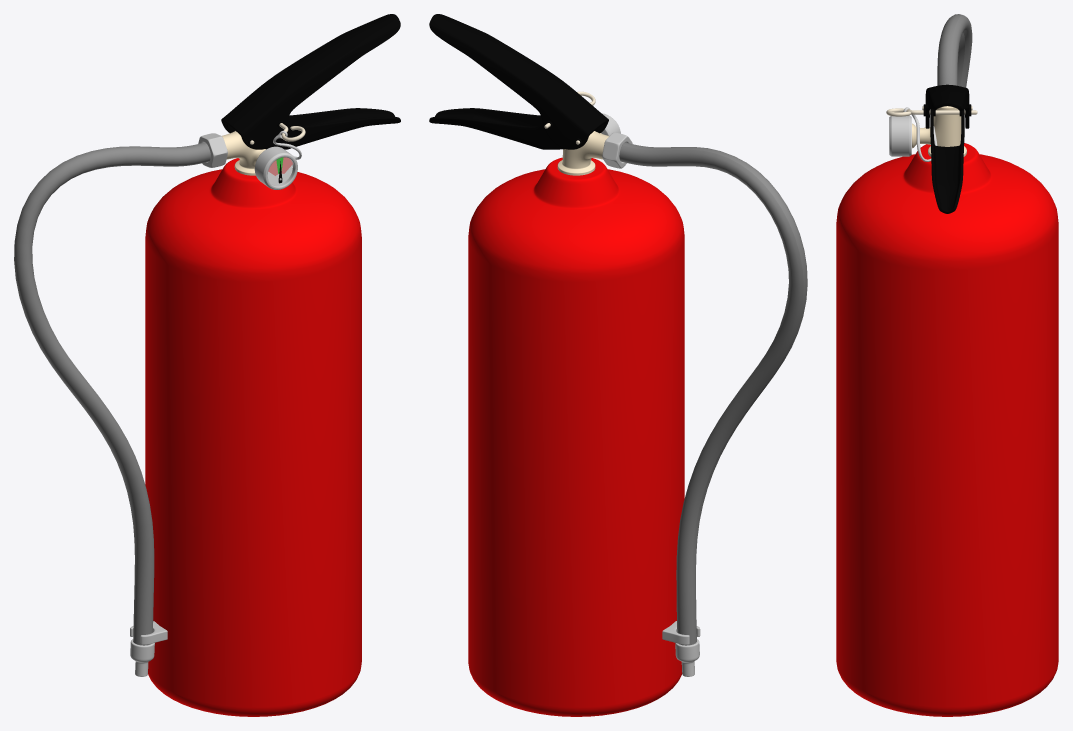
The model's file is fire.glb.
3 views of the same model, side by side, from view 1: azimuth 30°, elevation 25°; view 2: azimuth 150°, elevation 25°; view 3: azimuth 270°, elevation 25° (orthographic). The views are drawn at different scales.
Parts seen in each view (by area): view 1: Main_18, Hose_7, Handle_13, Connector_11, Meter_Housing_4, Screw_5, Hose_End_6; view 2: Main_18, Hose_7, Handle_13, Connector_11, Screw_5, Hose_End_6; view 3: Main_18, Handle_13, Hose_7, Connector_11, Meter_Housing_4, Steel_Pins_9.
Part boxes in pixels (x1,y1,x2,y2): Main_18: (145,158,361,716); Hose_7: (14,142,210,645); Handle_13: (221,14,400,149); Connector_11: (222,131,265,175); Meter_Housing_4: (254,146,297,189); Screw_5: (198,133,227,167); Hose_End_6: (130,639,154,676); Main_18: (468,157,684,716); Hose_7: (619,142,807,645); Handle_13: (429,14,608,149); Connector_11: (557,131,608,175); Screw_5: (602,132,632,168); Hose_End_6: (675,639,699,676); Main_18: (836,143,1058,716); Handle_13: (925,84,969,213); Hose_7: (937,14,972,87); Connector_11: (912,106,966,156); Meter_Housing_4: (889,115,911,156); Steel_Pins_9: (886,106,977,116).
Size of the model in its own units: 385 by 611 by 191.
